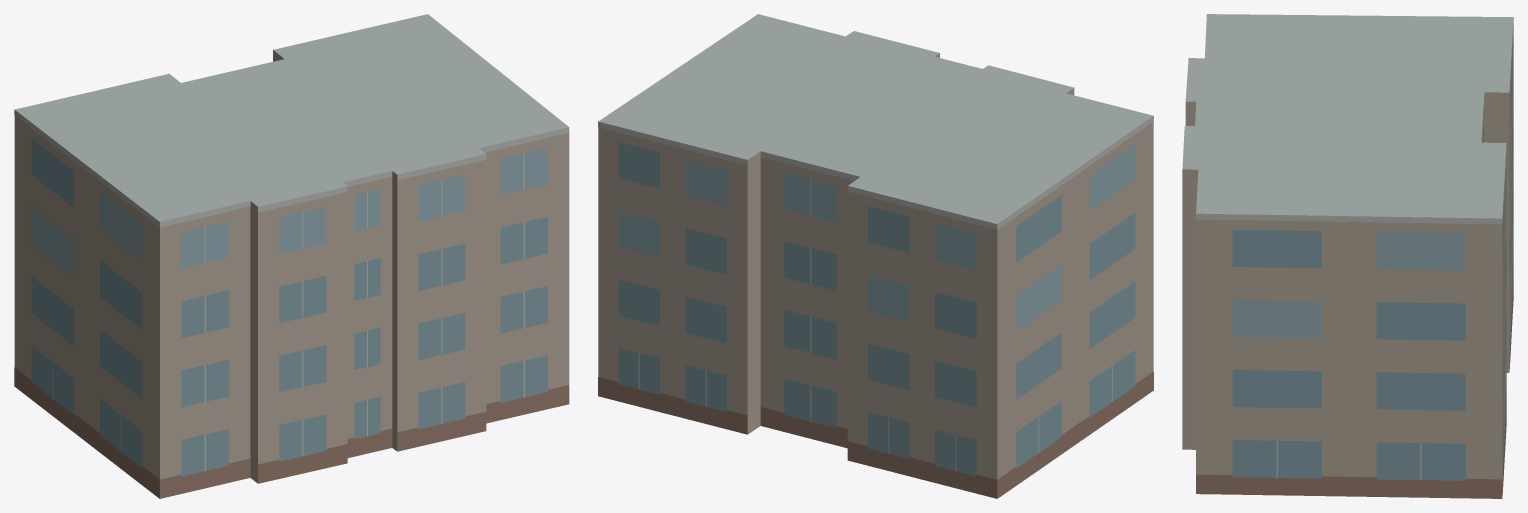
File: survey-upis-32663073.glb
3 renders of one model, left to right at view 1: azimuth 30°, elevation 25°; view 2: azimuth 150°, elevation 25°; view 3: azimuth 270°, elevation 25°, orthographic. The views are drawn at different scales.
Visible parts, largest first — view 1: survey-upis-32663073.tmp; view 2: survey-upis-32663073.tmp; view 3: survey-upis-32663073.tmp.
Boxes of the visible parts, <box> form: survey-upis-32663073.tmp: <box>14,14,569,498</box>; survey-upis-32663073.tmp: <box>598,14,1153,498</box>; survey-upis-32663073.tmp: <box>1182,14,1513,498</box>.
Size of the model in its own units: 18.32 by 11.7 by 12.54.
